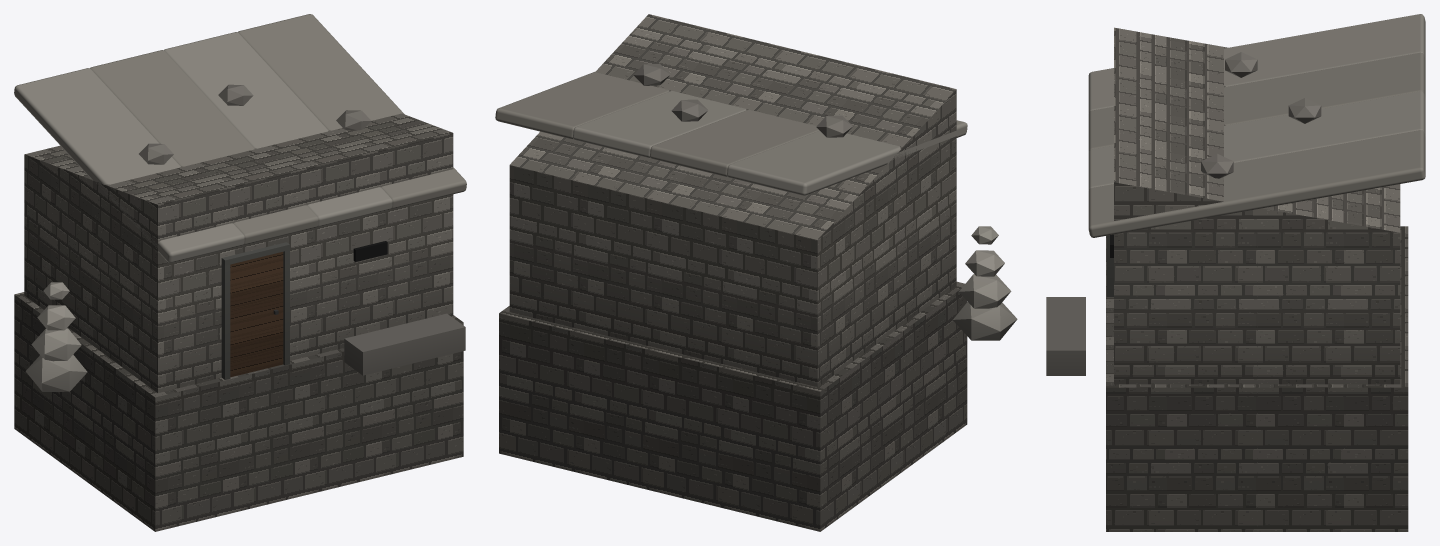
Rendered from abrigo_de_pedra.glb.
3 renders of one model, left to right at view 1: azimuth 30°, elevation 25°; view 2: azimuth 150°, elevation 25°; view 3: azimuth 270°, elevation 25°, orthographic. The views are drawn at different scales.
Visible parts, largest first — view 1: abrigo_de_pedra, abrigo_de_pedra_liso; view 2: abrigo_de_pedra, abrigo_de_pedra_liso; view 3: abrigo_de_pedra, abrigo_de_pedra_liso.
Part boxes in pixels (<box>): abrigo_de_pedra: <box>14,113,463,531</box>; abrigo_de_pedra_liso: <box>14,14,466,391</box>; abrigo_de_pedra: <box>499,14,967,531</box>; abrigo_de_pedra_liso: <box>495,63,1017,340</box>; abrigo_de_pedra: <box>1106,27,1408,531</box>; abrigo_de_pedra_liso: <box>1046,14,1425,375</box>.
Bounding box in the file's own units: 6.06 × 5.01 × 4.77.
3 materials, 2 textured.
